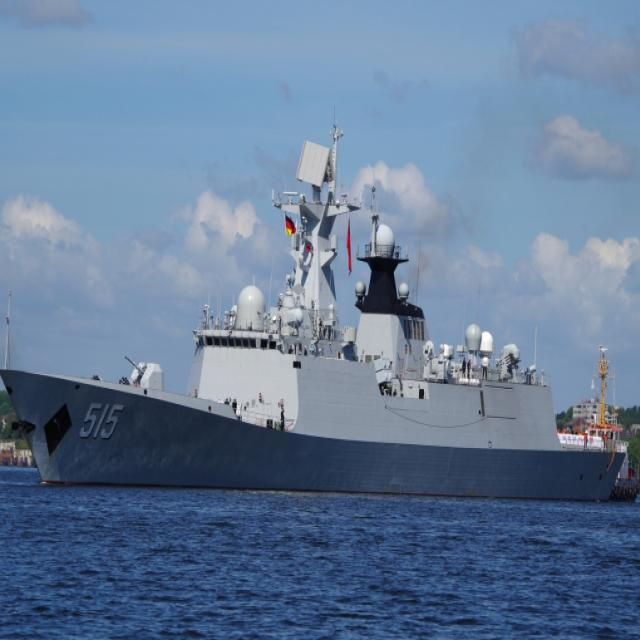Fragata: (3, 129, 635, 493)
